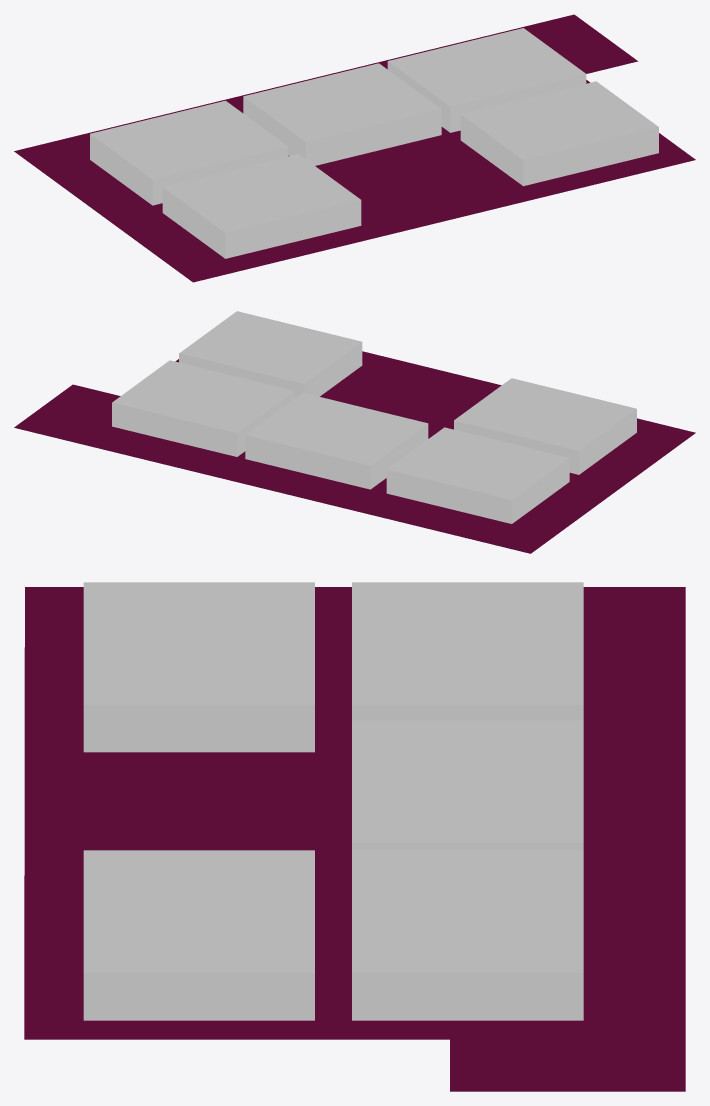
The model's file is njc-b3-ish-v5-30-4.glb.
3 renders of one model, top to bottom at view 1: azimuth 30°, elevation 25°; view 2: azimuth 150°, elevation 25°; view 3: azimuth 270°, elevation 25°, orthographic. The views are drawn at different scales.
Visible parts, largest first — view 1: Base, ISH5, ISH1, ISH3, ISH4, ISH2; view 2: Base, ISH4, ISH3, ISH2, ISH5, ISH1; view 3: Base, ISH2, ISH1, ISH5, ISH4, ISH3.
Boxes of the visible parts, x1,y1,x2,y2 form: Base: [14, 14, 695, 282]; ISH5: [162, 154, 361, 258]; ISH1: [460, 81, 658, 186]; ISH3: [243, 63, 441, 165]; ISH4: [90, 100, 288, 205]; ISH2: [387, 28, 586, 132]; Base: [14, 351, 695, 553]; ISH4: [386, 427, 569, 523]; ISH3: [245, 393, 428, 489]; ISH2: [112, 360, 294, 456]; ISH5: [454, 378, 636, 474]; ISH1: [179, 311, 362, 398]; Base: [24, 587, 685, 1091]; ISH2: [352, 850, 583, 1020]; ISH1: [83, 850, 314, 1020]; ISH5: [83, 582, 314, 752]; ISH4: [352, 582, 583, 720]; ISH3: [352, 720, 583, 850].
Size of the model in its own units: 4.48 by 0.2 by 2.48.
